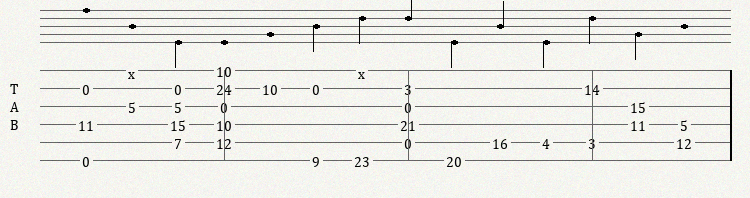0: (82, 153, 94, 167), (82, 81, 94, 95), (174, 81, 186, 95), (220, 99, 232, 113), (312, 81, 324, 95), (404, 135, 416, 149), (404, 99, 416, 113)
10: (216, 117, 236, 131), (216, 63, 236, 77), (262, 81, 282, 95)
11: (78, 117, 98, 131), (630, 117, 650, 131)
12: (216, 135, 236, 149), (676, 135, 696, 149)
14: (584, 81, 604, 95)
15: (170, 117, 190, 132), (630, 99, 650, 114)
16: (492, 135, 512, 149)
20: (446, 153, 466, 167)
21: (400, 117, 420, 131)
23: (354, 153, 374, 167)
24: (216, 81, 236, 95)
3: (404, 81, 416, 95), (588, 135, 600, 149)
4: (542, 135, 554, 149)
5: (128, 99, 140, 114), (174, 99, 186, 114), (680, 117, 692, 132)
7: (174, 135, 186, 149)
9: (312, 153, 324, 167)
x: (128, 65, 139, 76), (358, 65, 369, 76)
